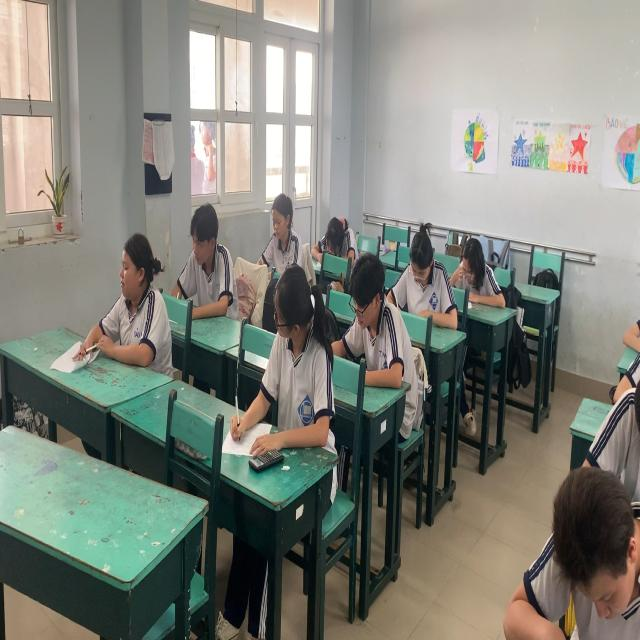cheating: (266, 262, 344, 426)
not_cheating: (107, 230, 161, 348), (340, 251, 394, 348), (182, 189, 224, 313), (406, 227, 445, 323), (261, 175, 305, 258), (455, 223, 492, 302), (318, 202, 354, 254)
